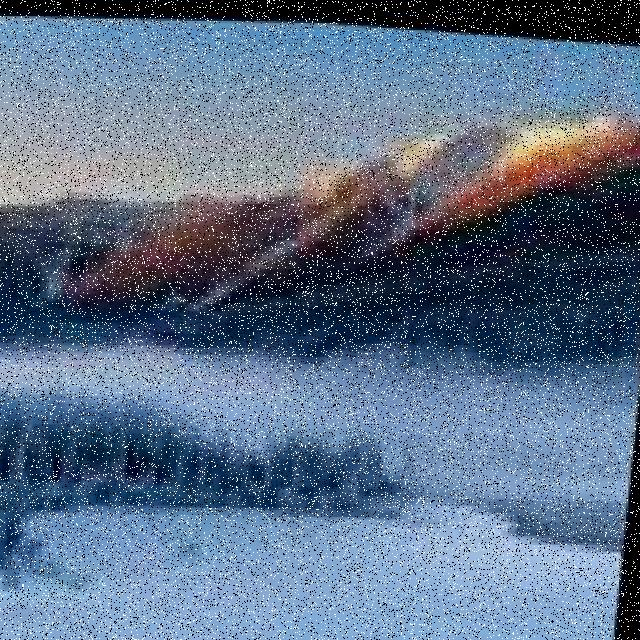ice-road: (0, 507, 622, 640)
